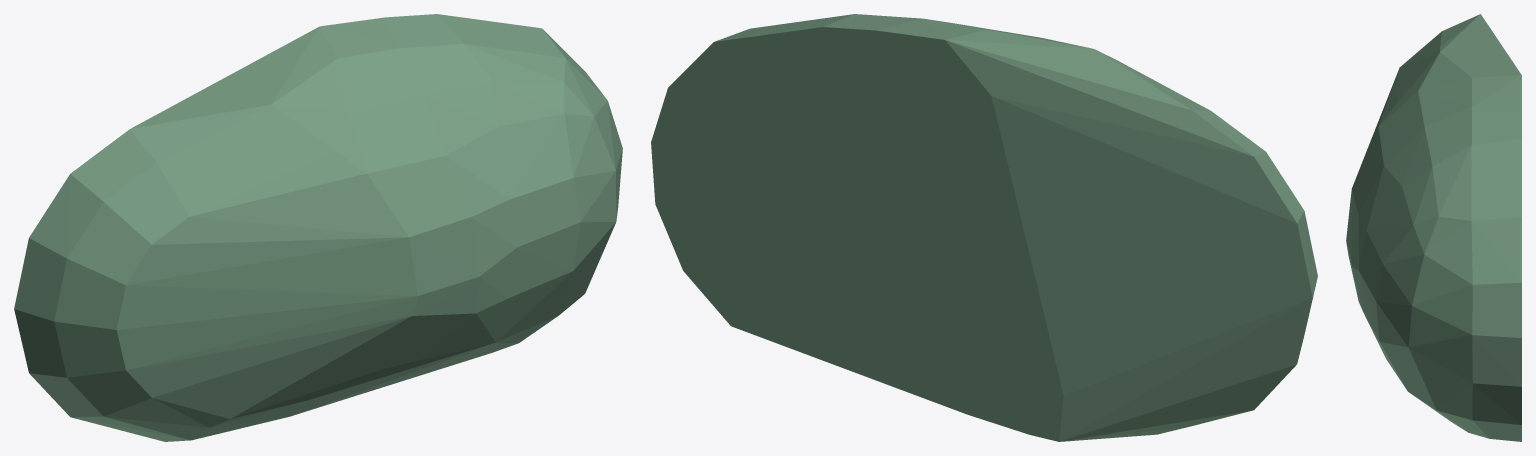
Rendered from finger_tip_collision000.obj.
3 views of the same model, side by side, from view 1: azimuth 30°, elevation 25°; view 2: azimuth 150°, elevation 25°; view 3: azimuth 270°, elevation 25° (orthographic). The views are drawn at different scales.
Size of the model in its own units: 0.0297 by 0.0167 by 0.00857.
